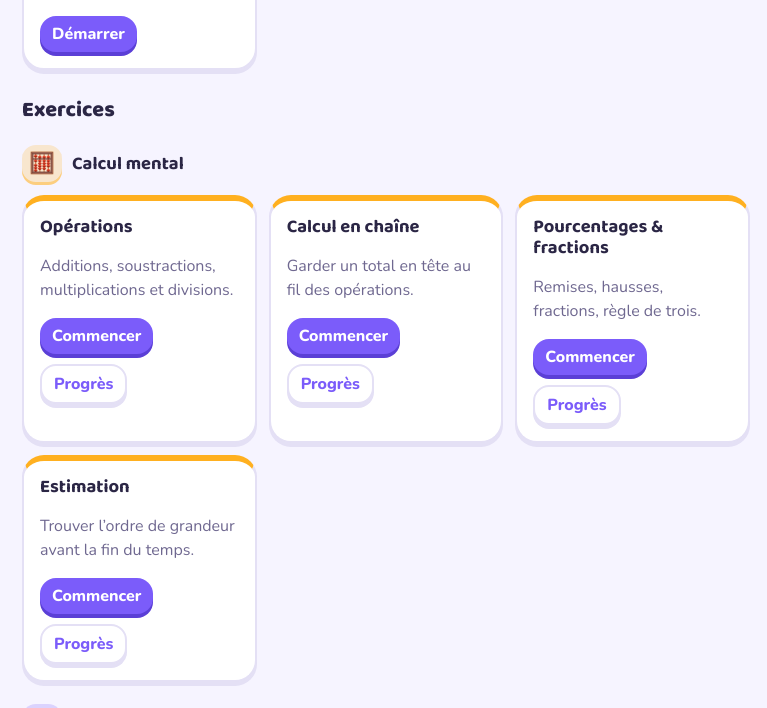
Test case: every exercise › Pourcentages & fractions opens, runs for a while and can be quit
(page scrolled)
Step 1. Click the 3rd button "Commencer" → (590, 357), box [533,339,647,375]
(page scrolled)
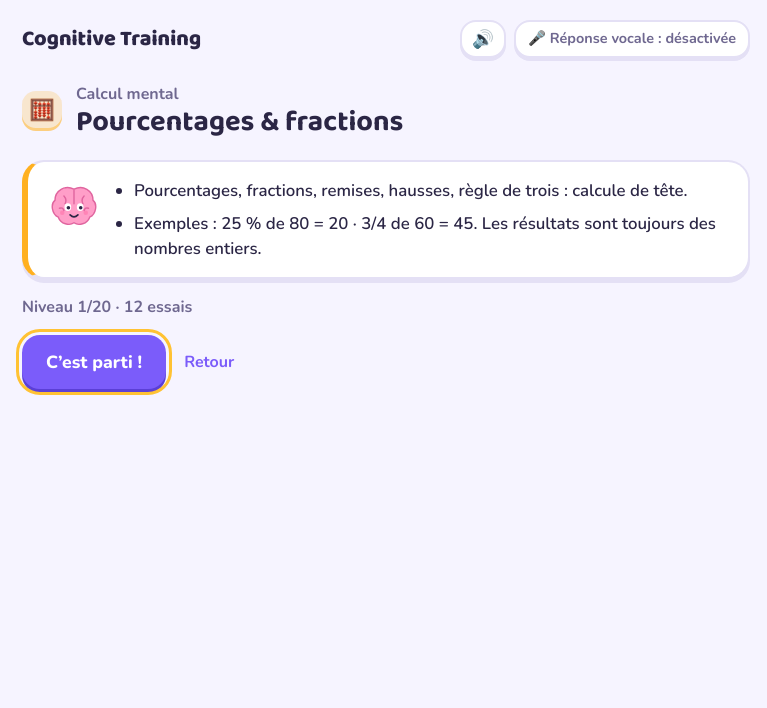
Step 2. Click the button "C’est parti !" → (94, 362), box [22,335,166,390]
Wait 20000 ms
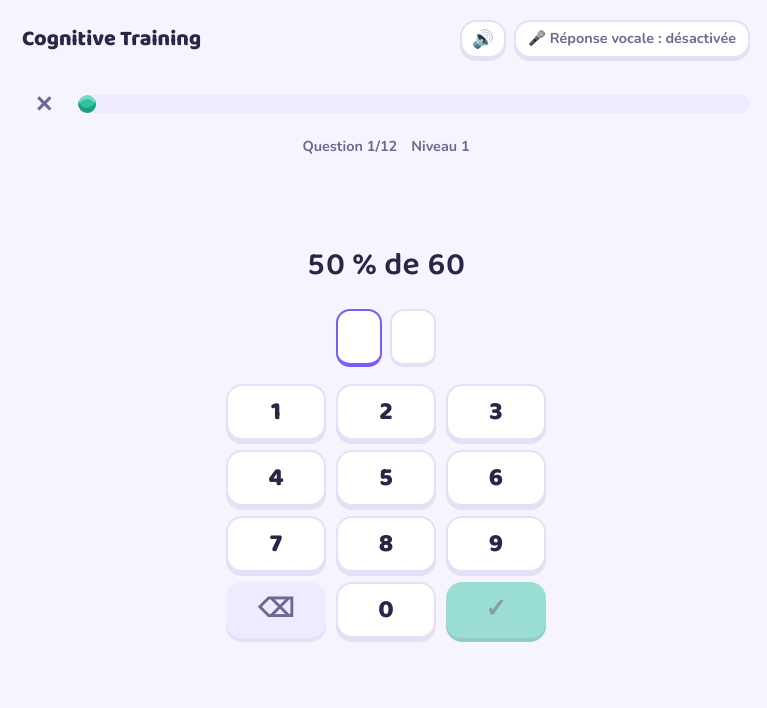
Result: the text "Niveau 1" is shown at [411,136,470,158]
Result: the button named "Abandonner" is shown
Step 3. Click the button named "Abandonner" → (44, 104), box [22,82,66,126]
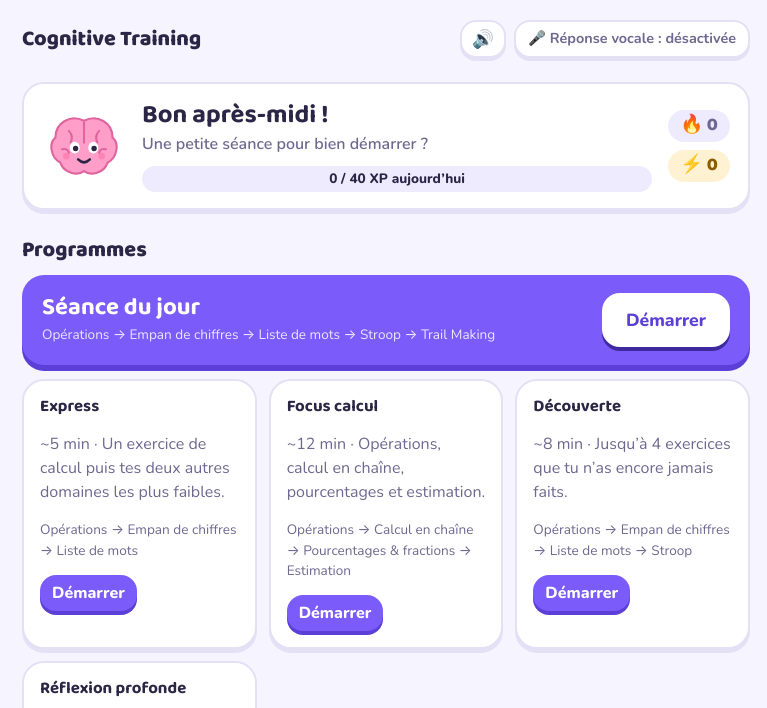
Result: the heading "Programmes" is shown at [22,233,147,267]
